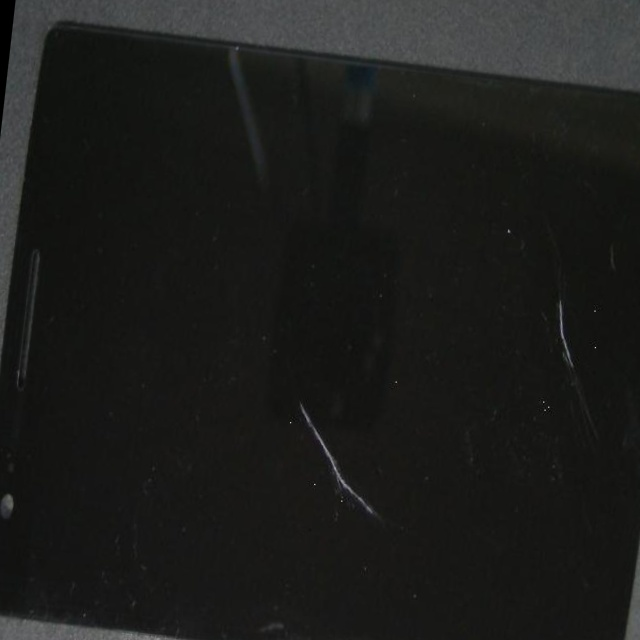scratch: (220, 11, 640, 526), (129, 130, 487, 601)
